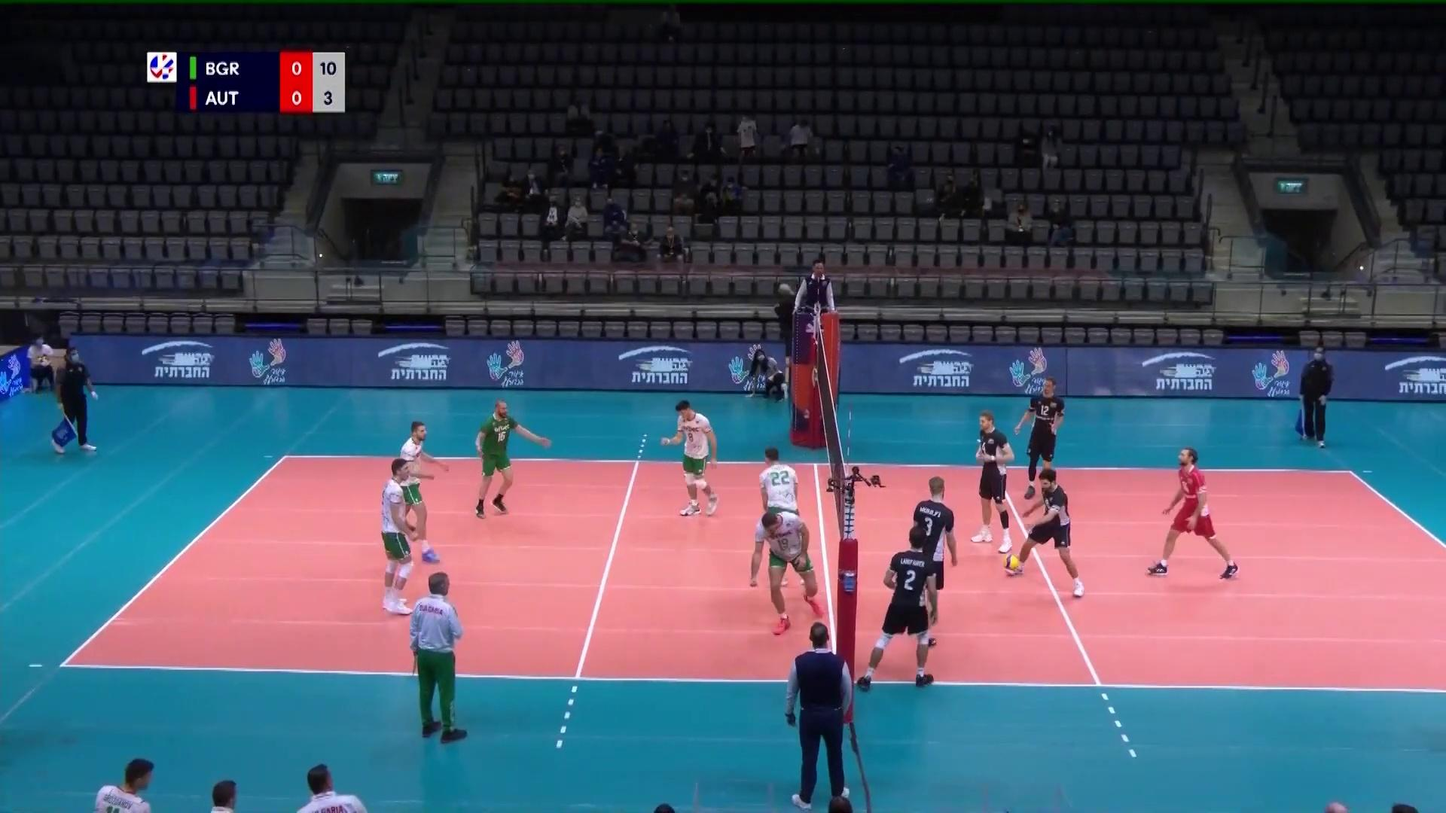ball: (1003, 554, 1020, 571)
